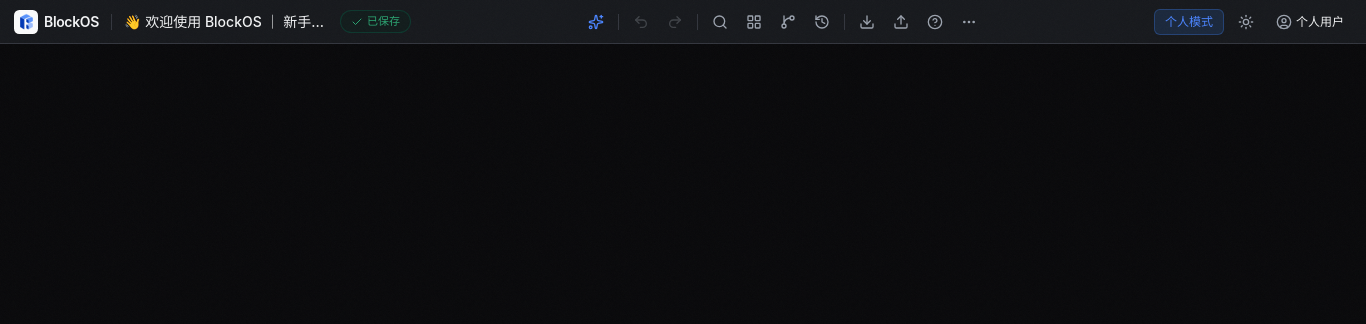
Test: Personal and enterprise workspace navigation › keeps personal AI/editor tools and removes collaboration from both toolbar and overflow
The image size is (1366, 324).
Expected: the button titled "AI 助手" is shown, 580,6 -> 612,38
Expected: the button titled "导出" is shown, 851,6 -> 883,38
Click the button titled "更多工具与功能" at (969, 22), box 953,6 -> 985,38
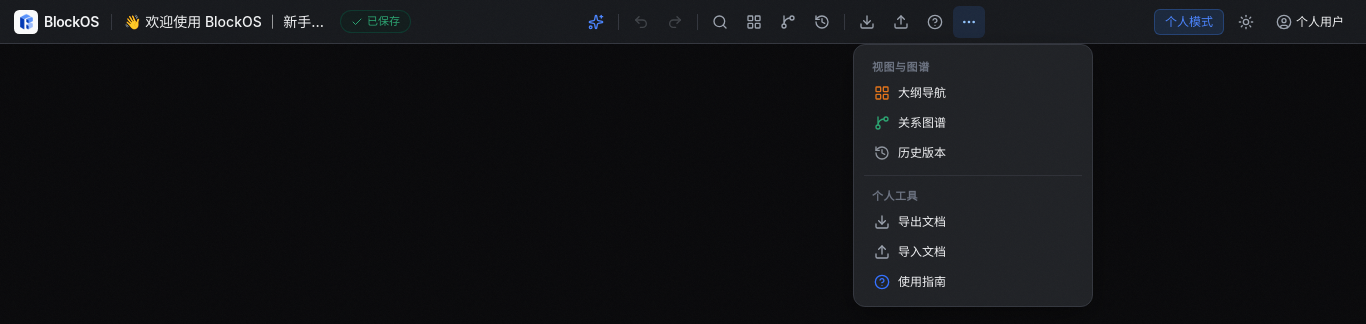
Expected: the text "个人工具" is shown, 872,188 -> 918,202
